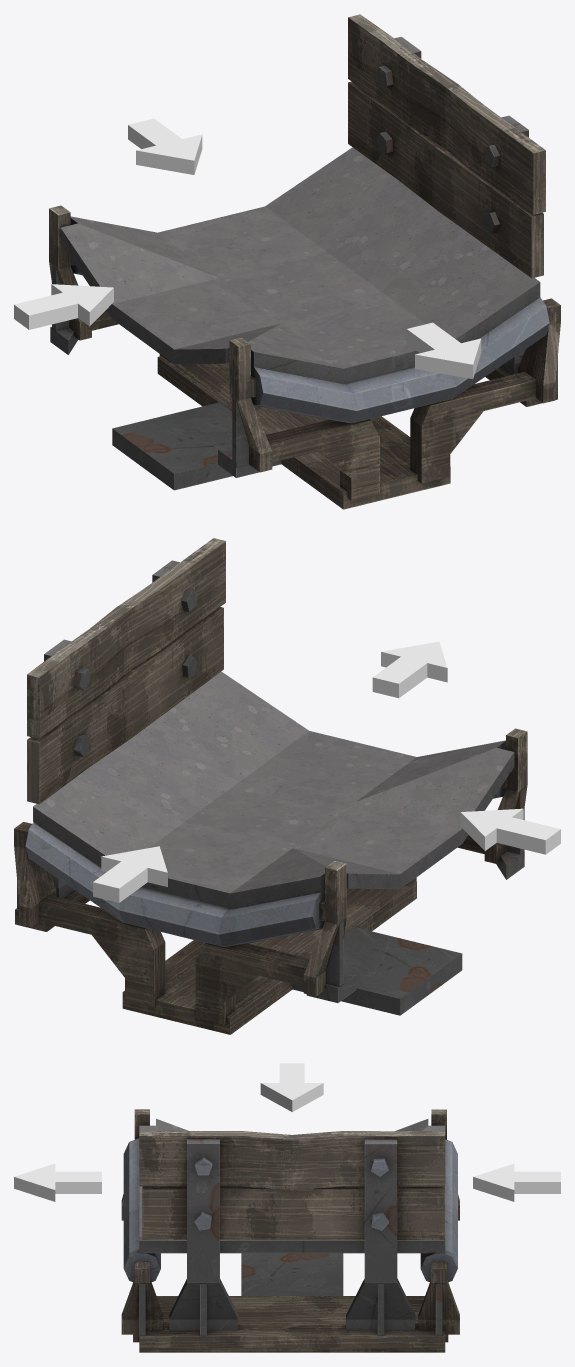
Rendered from Wall_LCombiner.glb.
3 views of the same model, one above another, from view 1: azimuth 30°, elevation 25°; view 2: azimuth 150°, elevation 25°; view 3: azimuth 270°, elevation 25° (orthographic). The views are drawn at different scales.
Parts seen in each view (by area): view 1: Renderer, ghostarrow (2), ghostarrow, ghostarrow (1); view 2: Renderer, ghostarrow (2), ghostarrow, ghostarrow (1); view 3: Renderer, ghostarrow, ghostarrow (1), ghostarrow (2).
Boxes of the visible parts, <box> form: Renderer: <box>49,14,560,509</box>; ghostarrow (2): <box>14,284,113,329</box>; ghostarrow: <box>406,322,481,378</box>; ghostarrow (1): <box>128,118,202,174</box>; Renderer: <box>14,538,527,1034</box>; ghostarrow (2): <box>460,808,560,854</box>; ghostarrow: <box>372,641,447,698</box>; ghostarrow (1): <box>93,846,167,902</box>; Renderer: <box>121,1109,459,1352</box>; ghostarrow: <box>14,1163,101,1201</box>; ghostarrow (1): <box>473,1163,560,1201</box>; ghostarrow (2): <box>260,1063,323,1111</box>.
Size of the model in its own units: 1.4 by 0.9199 by 1.79.
4 materials, 2 textured.
